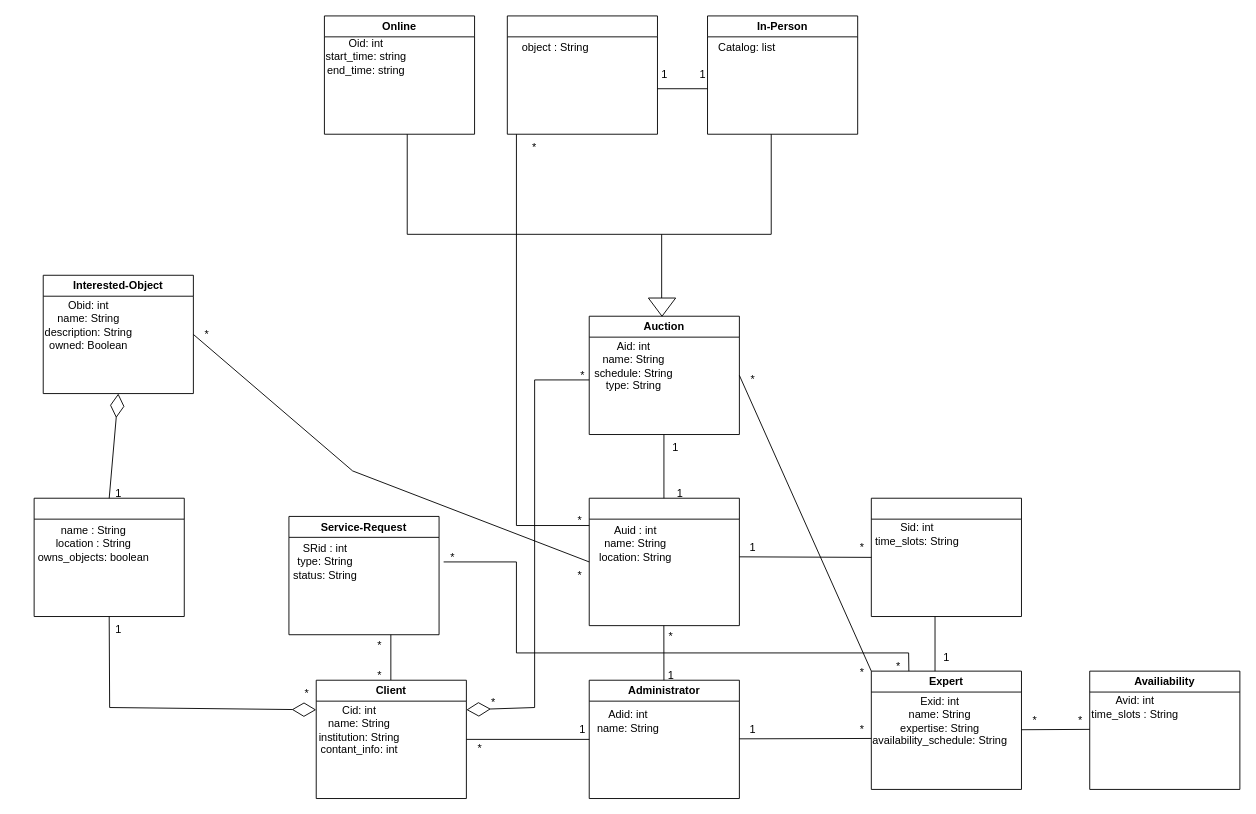
Some shapes in this 1256 by 814 pixel diagram are drawn without their labels. The shapes that lost their labels are listed below. From the top down, each one's box as (x1, y1, x2, y2) in pixels, then its label:
(506, 15, 657, 134): viewing
(33, 497, 184, 617): Institution
(588, 497, 739, 626): Auction-House
(870, 497, 1021, 617): Schedule
